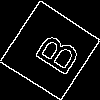B: (25, 25, 82, 78)
